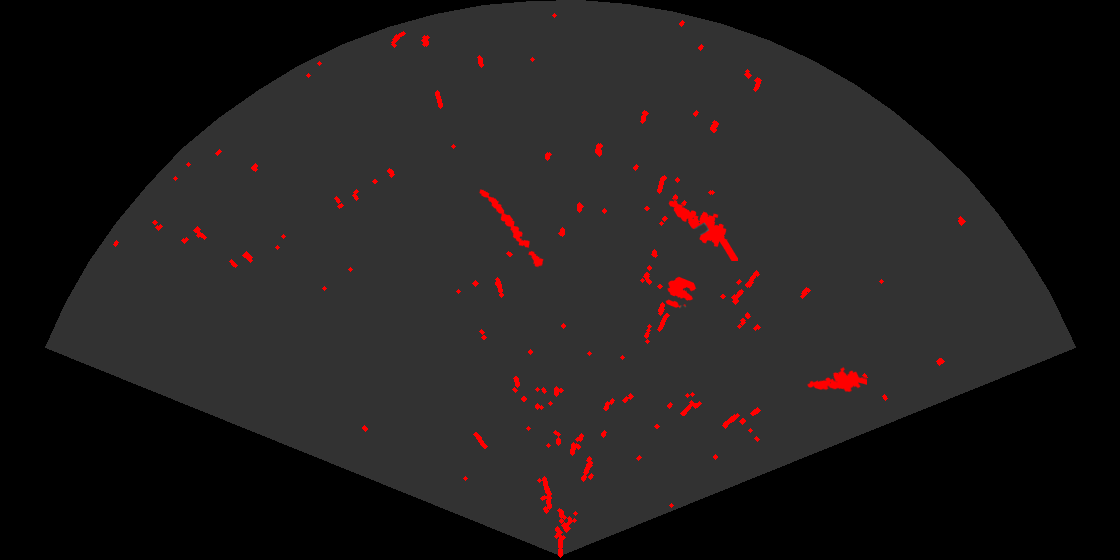ball: (664, 275, 698, 309)
chain: (478, 188, 545, 269)
frogman: (667, 198, 738, 261), (805, 365, 867, 394)
